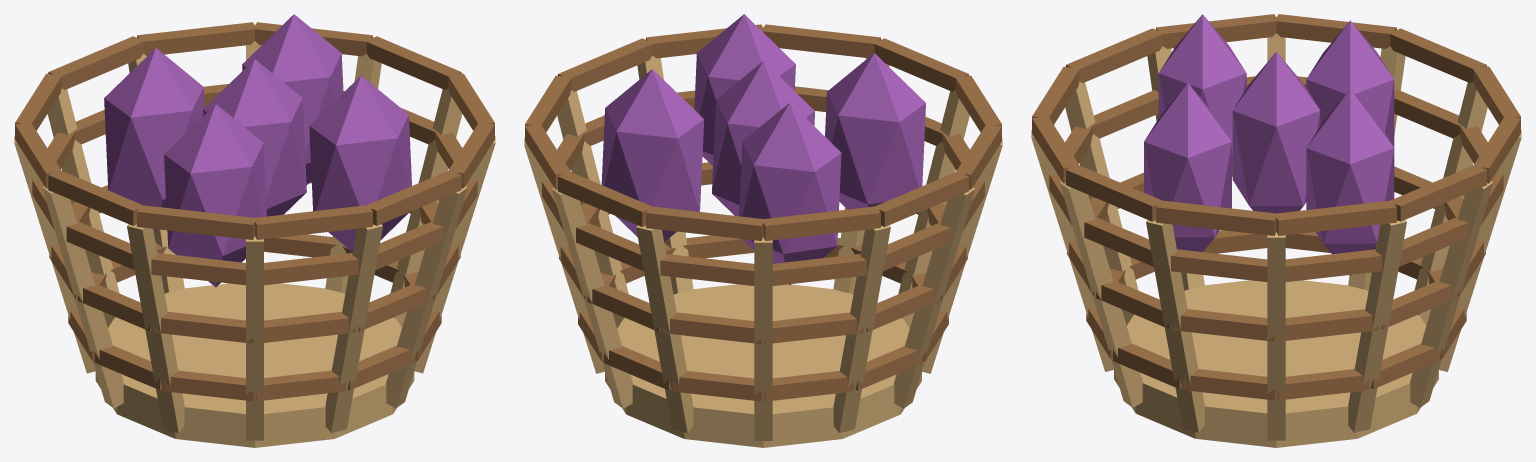
File: TR3_ProduceBasket_Eggplant.glb
3 views of the same model, side by side, from view 1: azimuth 30°, elevation 25°; view 2: azimuth 150°, elevation 25°; view 3: azimuth 270°, elevation 25° (orthographic). The views are drawn at different scales.
Parts seen in each view (by area): view 1: TR3_ProduceBasket_Eggplant; view 2: TR3_ProduceBasket_Eggplant; view 3: TR3_ProduceBasket_Eggplant.
Part boxes in pixels (left/top/right/bottom): TR3_ProduceBasket_Eggplant: left=14, top=14, right=495, bottom=447; TR3_ProduceBasket_Eggplant: left=524, top=14, right=1002, bottom=447; TR3_ProduceBasket_Eggplant: left=1031, top=14, right=1521, bottom=447.
Size of the model in its own units: 0.664 by 0.49 by 0.664.
